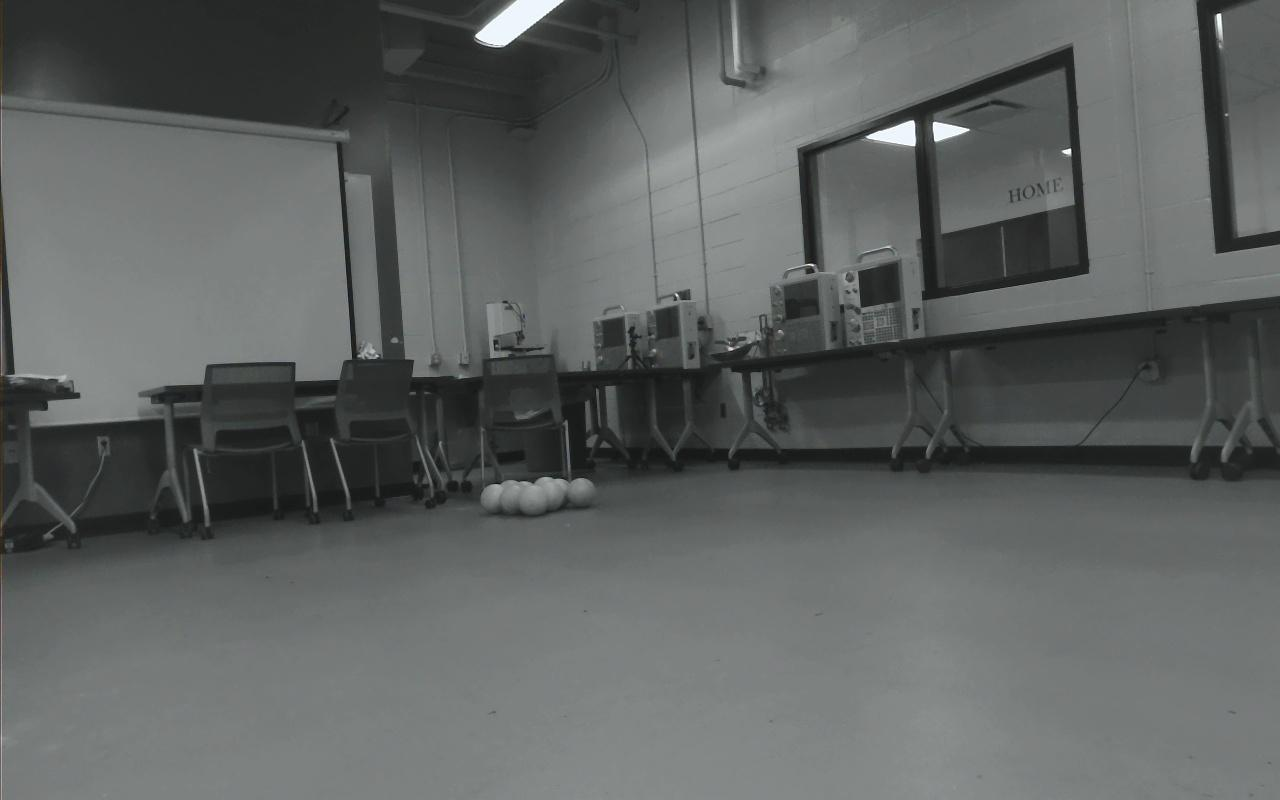Fuel: (518, 483, 550, 516), (567, 477, 596, 509), (499, 482, 527, 515), (535, 480, 563, 512), (480, 483, 507, 514), (547, 477, 571, 508), (534, 476, 556, 507), (511, 480, 535, 508), (498, 479, 522, 506)
